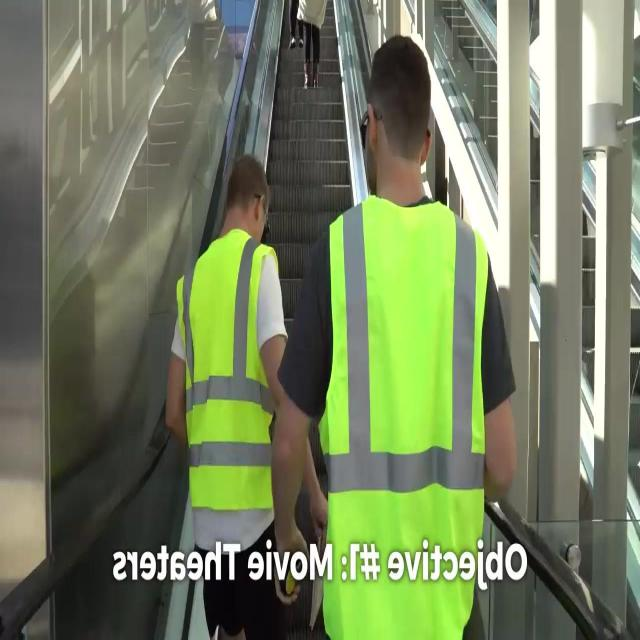Reflective-Jacket: (316, 194, 494, 634), (165, 229, 286, 527)
